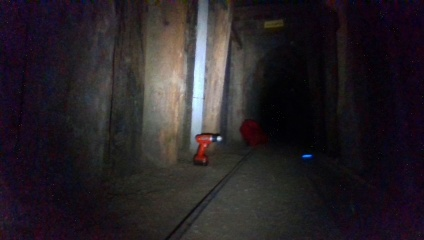backpack: (239, 119, 266, 151)
drill: (194, 133, 224, 167)
